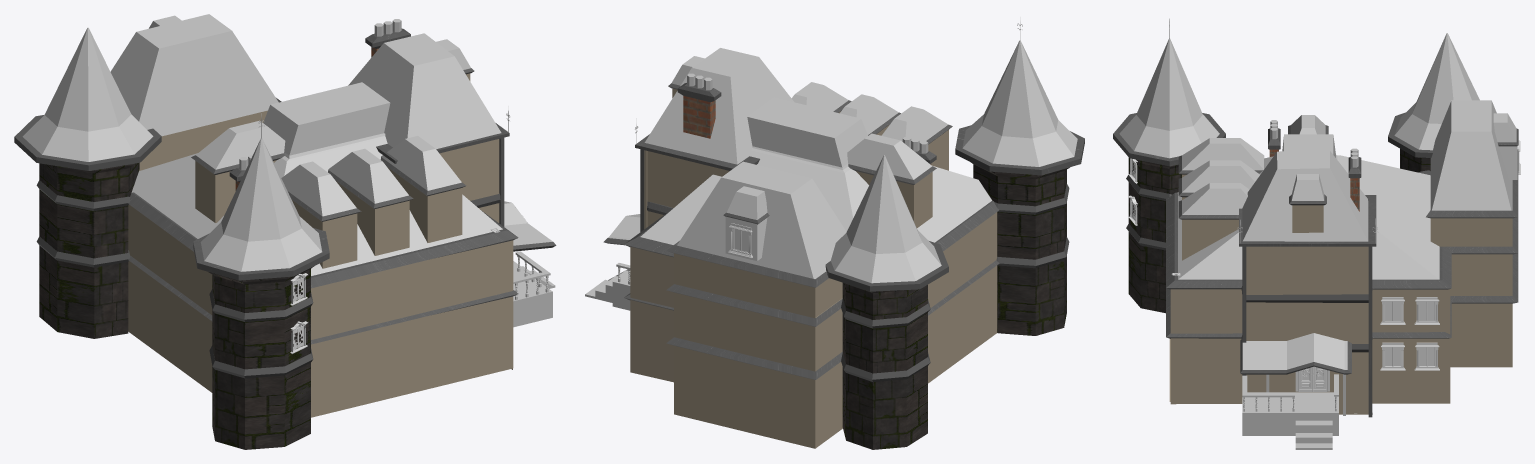
Rendered from House_TexturizedOLOCO.fbx.
3 renders of one model, left to right at view 1: azimuth 30°, elevation 25°; view 2: azimuth 150°, elevation 25°; view 3: azimuth 270°, elevation 25°, orthographic. The views are drawn at different scales.
Parts seen in each view (by area): view 1: Plane.023, Plane.027, Plane.006, Plane.003, Plane.028, Plane, Object_9.008, Plane.015, Plane.002, Plane.024, Cube.003, Cube.004 (+18 smaller); view 2: Plane.026, Plane.006, Plane.003, Plane.027, Plane.028, Plane.023, Plane, Plane.015, Object_9.008, Plane.025, Plane.024, Cube.013 (+24 smaller); view 3: Plane.025, Plane.024, Plane.006, Plane.026, Plane, Plane.028, Plane.015, Plane.027, Cube, Plane.002, Object_9.008, Plane.022 (+25 smaller).
Part boxes in pixels (x1=…): Plane.023: x1=128, y1=110, x2=513, y2=417; Plane.027: x1=208, y1=266, x2=313, y2=449; Plane.006: x1=131, y1=82, x2=502, y2=275; Plane.003: x1=39, y1=162, x2=139, y2=338; Plane.028: x1=110, y1=14, x2=278, y2=136; Plane: x1=348, y1=33, x2=501, y2=148; Object_9.008: x1=22, y1=27, x2=153, y2=161; Plane.015: x1=200, y1=138, x2=322, y2=271; Plane.002: x1=311, y1=193, x2=518, y2=288; Plane.024: x1=439, y1=139, x2=499, y2=222; Cube.003: x1=387, y1=167, x2=462, y2=242; Cube.004: x1=336, y1=181, x2=409, y2=255; Plane.026: x1=674, y1=253, x2=842, y2=448; Plane.006: x1=640, y1=97, x2=991, y2=244; Plane.003: x1=842, y1=283, x2=927, y2=449; Plane.027: x1=971, y1=162, x2=1069, y2=335; Plane.028: x1=677, y1=161, x2=846, y2=278; Plane.023: x1=816, y1=212, x2=997, y2=383; Plane: x1=644, y1=48, x2=793, y2=164; Plane.015: x1=962, y1=40, x2=1077, y2=166; Object_9.008: x1=830, y1=155, x2=941, y2=283; Plane.025: x1=630, y1=246, x2=673, y2=382; Plane.024: x1=647, y1=151, x2=729, y2=226; Cube.013: x1=847, y1=133, x2=932, y2=179; Plane.025: x1=1170, y1=289, x2=1450, y2=404; Plane.024: x1=1246, y1=246, x2=1368, y2=414; Plane.006: x1=1177, y1=134, x2=1439, y2=279; Plane.026: x1=1430, y1=218, x2=1512, y2=367; Plane: x1=1242, y1=150, x2=1372, y2=414; Plane.028: x1=1430, y1=100, x2=1512, y2=210; Plane.015: x1=1119, y1=38, x2=1219, y2=158; Plane.027: x1=1128, y1=157, x2=1181, y2=313; Cube: x1=1242, y1=392, x2=1338, y2=449; Plane.002: x1=1166, y1=192, x2=1451, y2=302; Object_9.008: x1=1394, y1=33, x2=1479, y2=150; Plane.022: x1=1242, y1=333, x2=1347, y2=369.
Bounding box in the file's own units: 8343 × 6628 × 7626.
